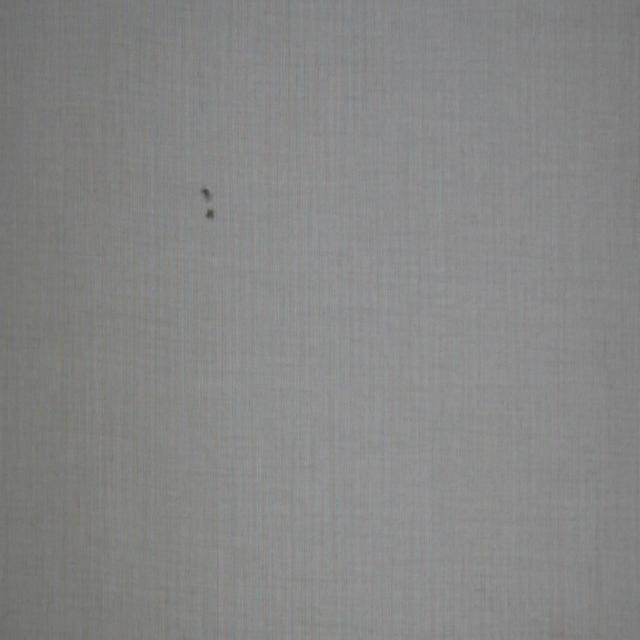dirty: (201, 187, 214, 203), (206, 207, 213, 218)
